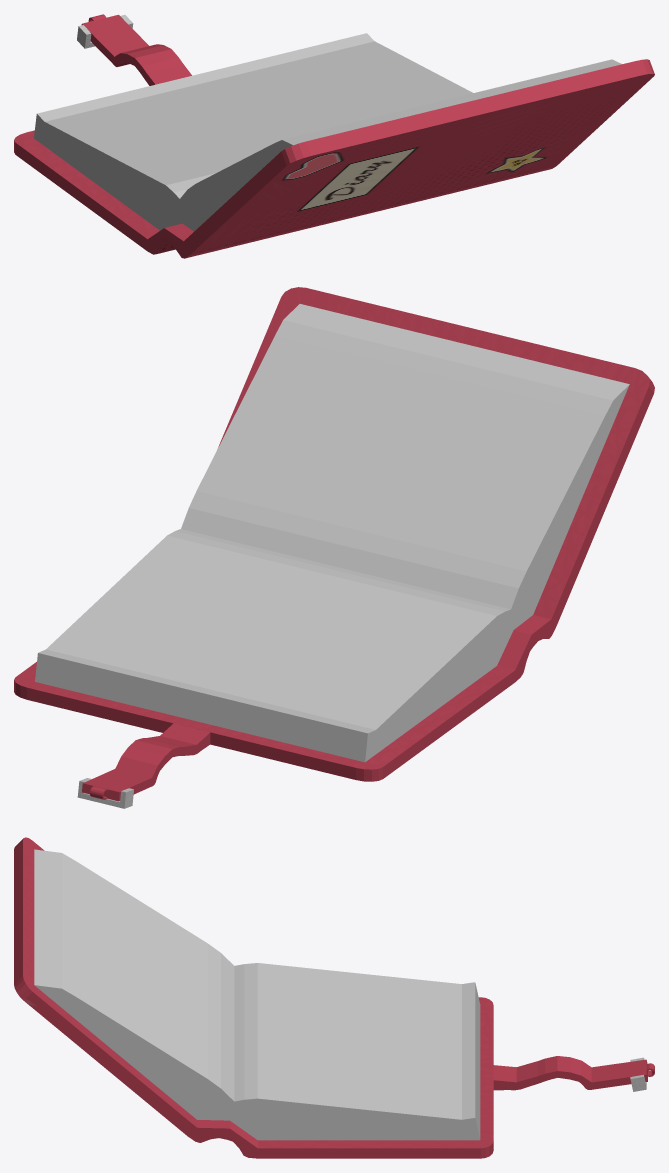
Rendered from DiaryOpen.fbx.
The picture shows the model from 3 angles, top to bottom: view 1: azimuth 30°, elevation 25°; view 2: azimuth 150°, elevation 25°; view 3: azimuth 270°, elevation 25°; orthographic projection. The views are drawn at different scales.
Visible parts, largest first — view 1: Diary, pages; view 2: pages, Diary; view 3: pages, Diary.
Boxes of the visible parts, x1,y1,x2,y2 form: Diary: (14,14,654,258); pages: (34,33,621,231); pages: (35,304,629,762); Diary: (14,287,654,808); pages: (34,849,480,1140); Diary: (14,837,654,1158).
Size of the model in its own units: 897 by 484 by 1608.
